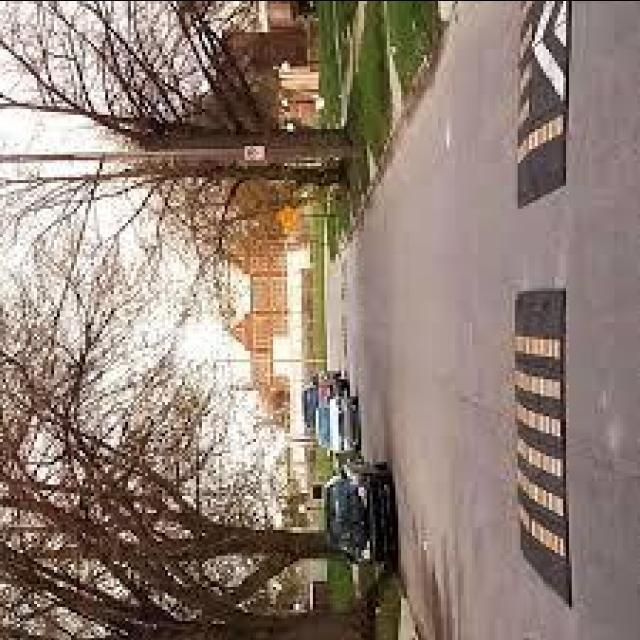speedbreaker: (498, 0, 570, 640)
